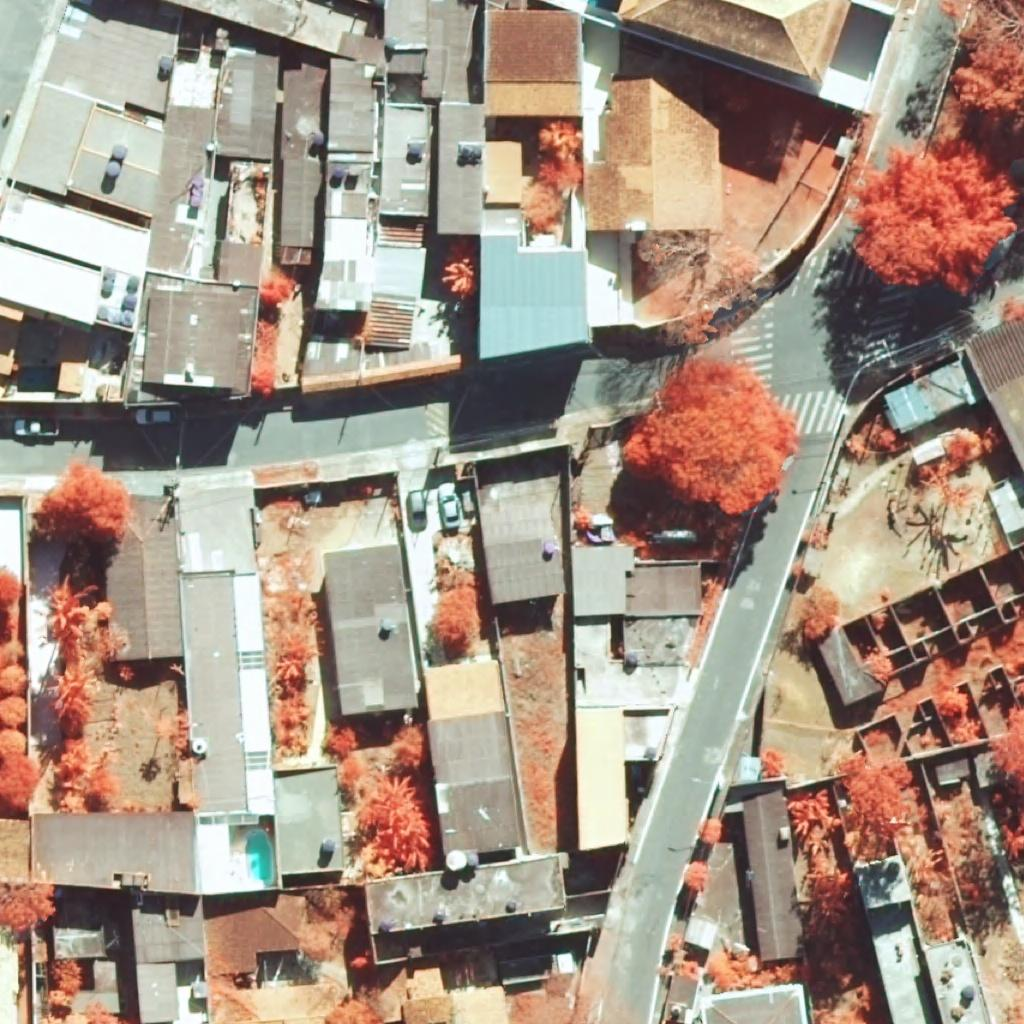pool: (246, 831, 271, 882)
